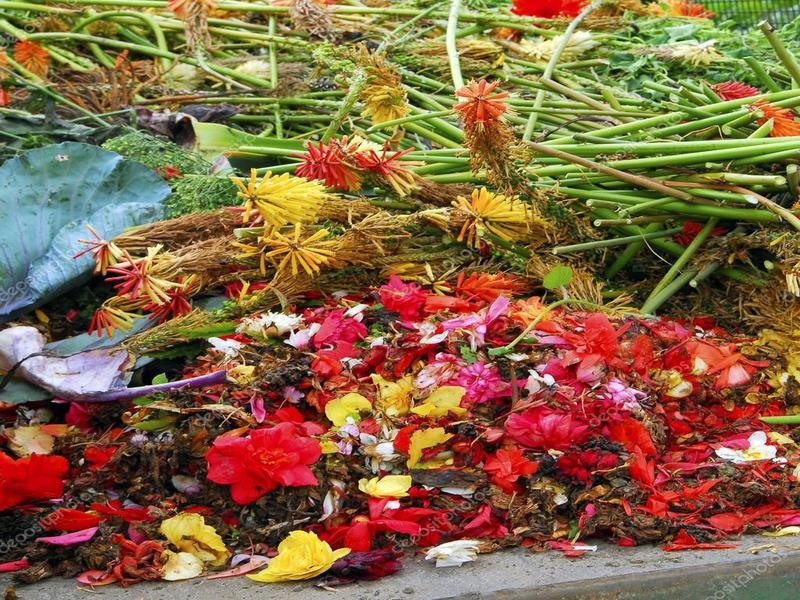flowers: (2, 4, 800, 586)
leaf: (1, 134, 183, 320)
